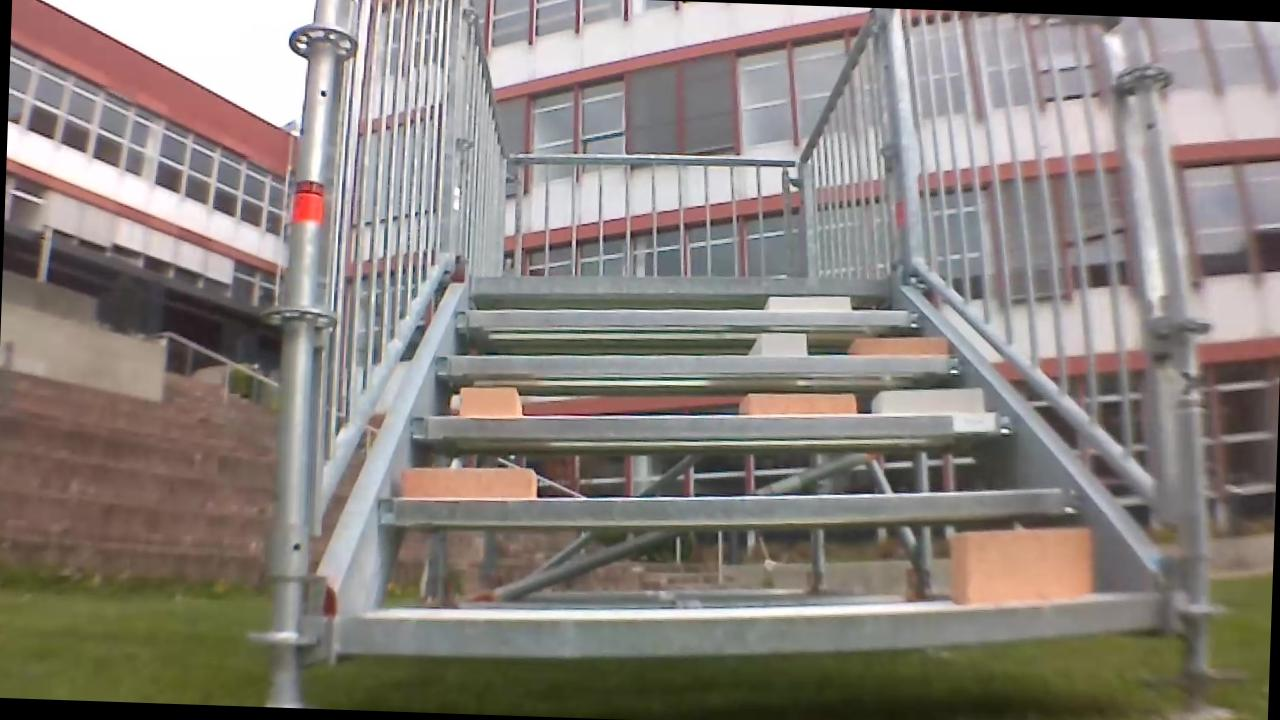brick: (948, 523, 1093, 607), (401, 463, 537, 500), (872, 385, 982, 415), (739, 391, 854, 416), (459, 384, 520, 416), (848, 335, 942, 355), (762, 295, 850, 311), (749, 331, 806, 355)
edge: (344, 568, 1163, 680), (377, 466, 1081, 542), (412, 393, 1009, 456), (436, 337, 963, 389), (455, 295, 923, 341), (475, 263, 893, 304)
steps: (325, 252, 1186, 701)
